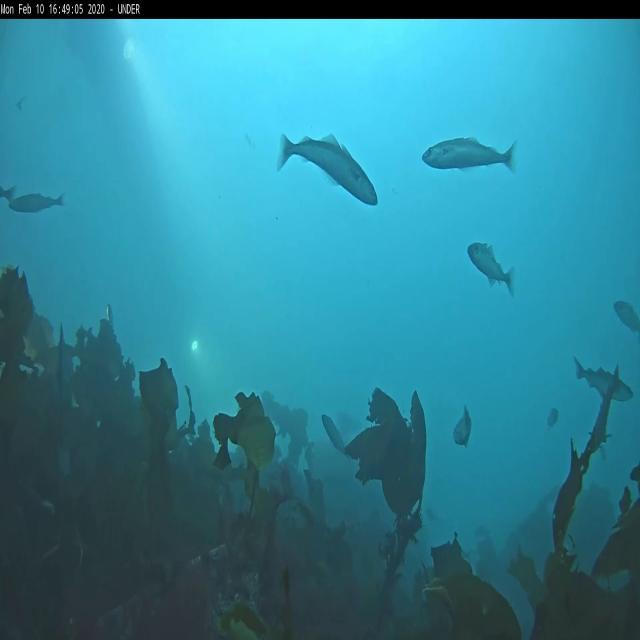fish: (277, 135, 378, 205), (423, 137, 516, 171), (574, 354, 632, 406), (469, 239, 515, 296), (320, 412, 350, 458), (8, 192, 64, 215), (452, 406, 472, 452), (614, 299, 640, 333), (0, 186, 17, 201)
